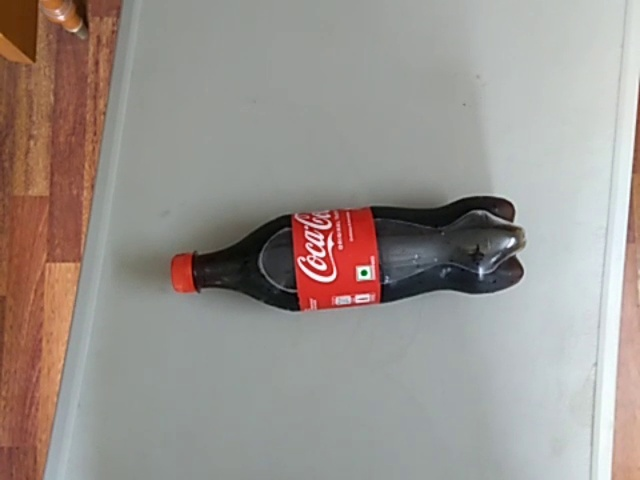Cocacola: (138, 184, 542, 319)
